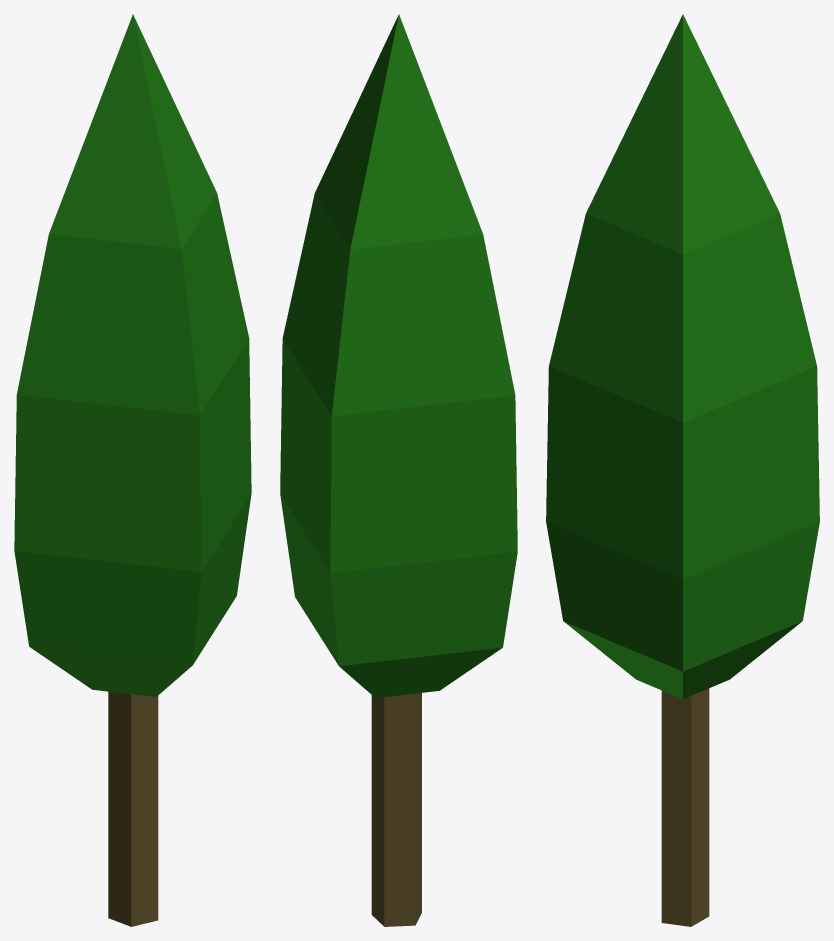
The model's file is TreeShape1_Dark.fbx.
3 views of the same model, side by side, from view 1: azimuth 30°, elevation 25°; view 2: azimuth 150°, elevation 25°; view 3: azimuth 270°, elevation 25° (orthographic).
Parts seen in each view (by area): view 1: TreeShape1_Dark; view 2: TreeShape1_Dark; view 3: TreeShape1_Dark.
Part boxes in pixels (x1,y1,x2,y2): TreeShape1_Dark: (14, 14, 251, 926); TreeShape1_Dark: (280, 14, 517, 926); TreeShape1_Dark: (546, 14, 819, 926).
Size of the model in its own units: 119 by 431 by 119.
